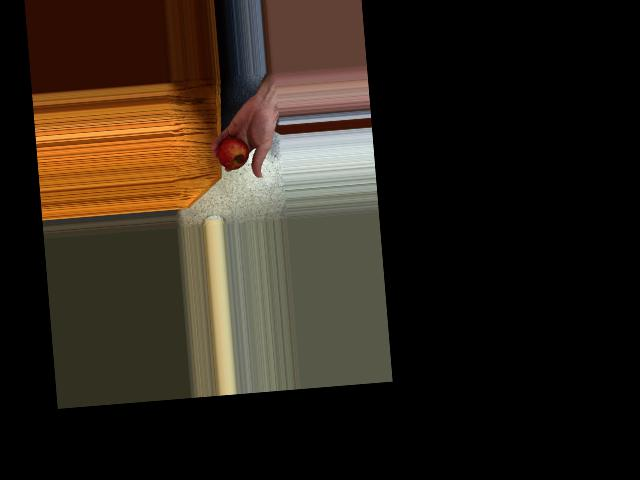apple: (214, 129, 250, 172)
